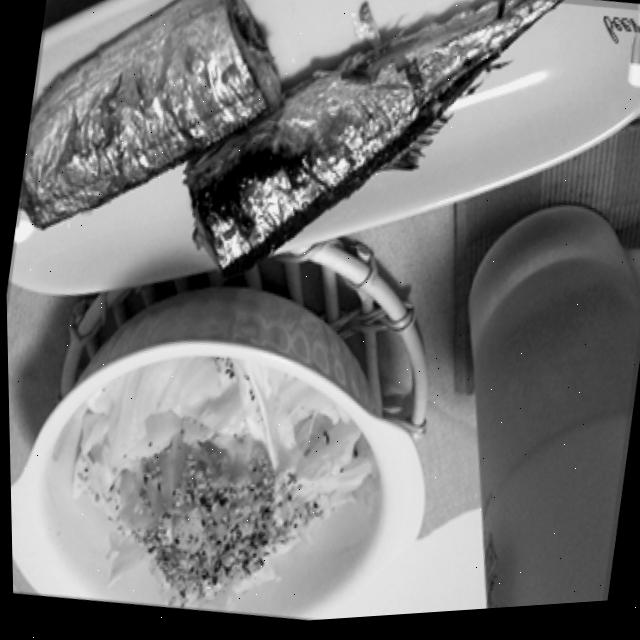熟制海鲜: (4, 0, 611, 353)
